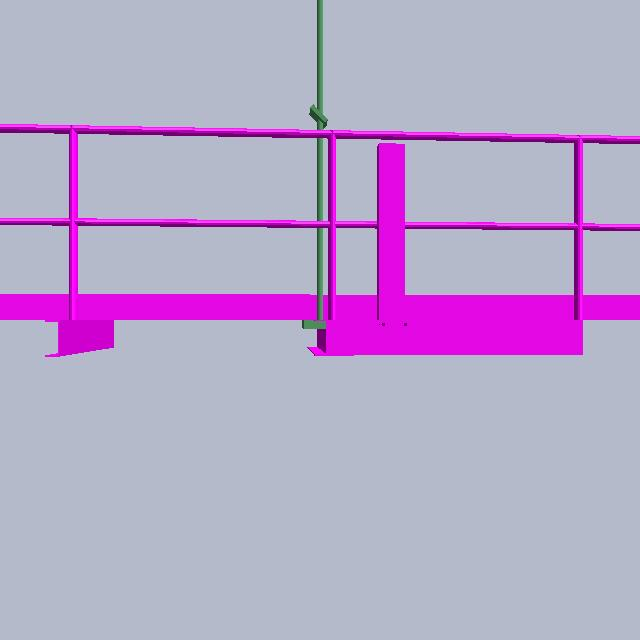Poste: (311, 2, 329, 338)
Soporte: (371, 135, 412, 345)
